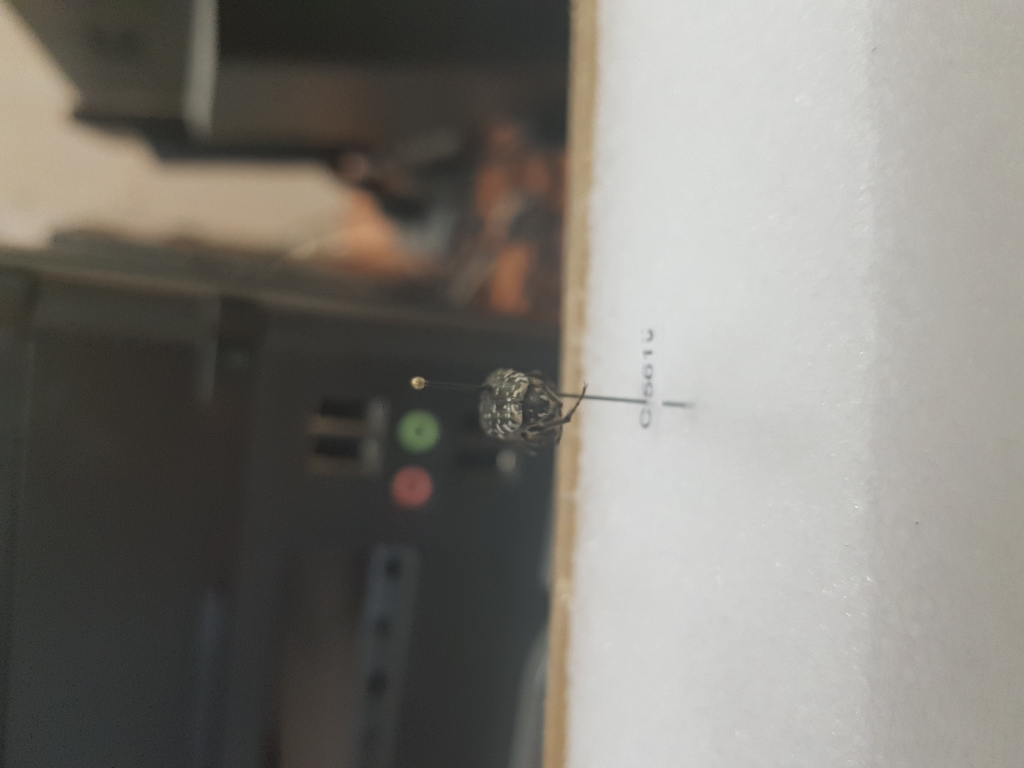Oxythyrea_funesta: (478, 360, 587, 451)
